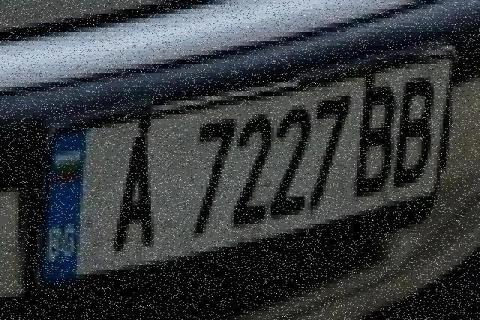LicensePlate: (36, 32, 461, 306)
